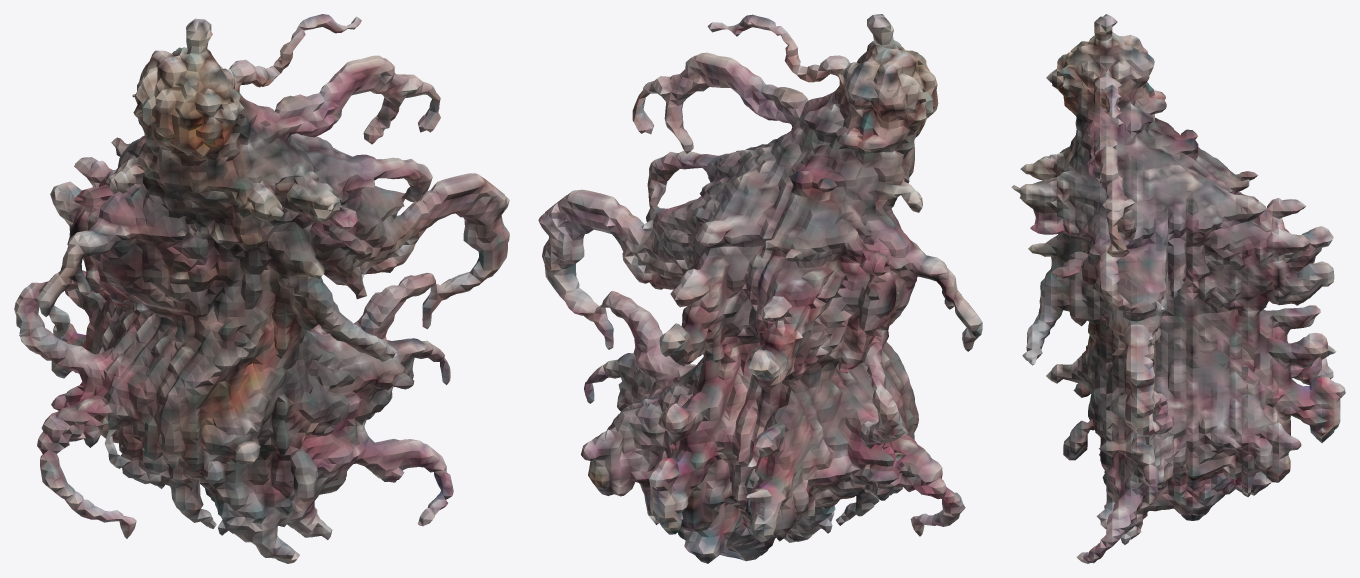
File: shade.glb
The picture shows the model from 3 angles, left to right: view 1: azimuth 30°, elevation 25°; view 2: azimuth 150°, elevation 25°; view 3: azimuth 270°, elevation 25°; orthographic projection. The views are drawn at different scales.
Parts seen in each view (by area): view 1: geometry_0; view 2: geometry_0; view 3: geometry_0.
Boxes of the visible parts, x1,y1,x2,y2 form: geometry_0: (14, 14, 509, 563); geometry_0: (538, 14, 982, 563); geometry_0: (1011, 14, 1345, 563).
Bounding box in the file's own units: 0.8501 × 0.992 × 0.6338.
